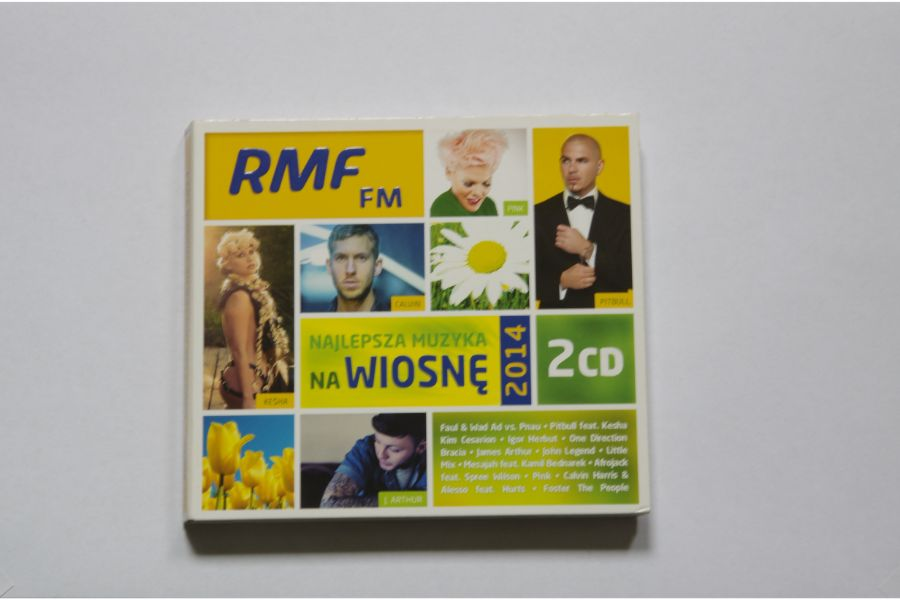album: (179, 116, 650, 519)
